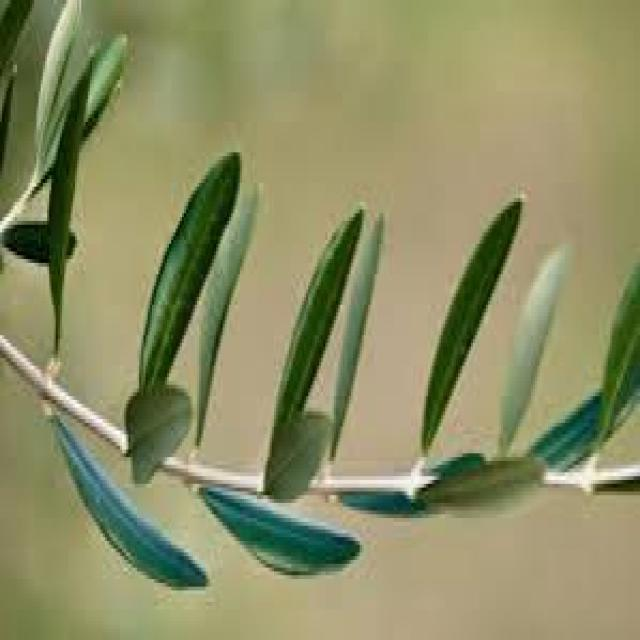Healthy: (56, 415, 205, 579), (422, 198, 518, 450), (139, 152, 238, 385), (501, 244, 569, 453), (199, 488, 357, 571)
